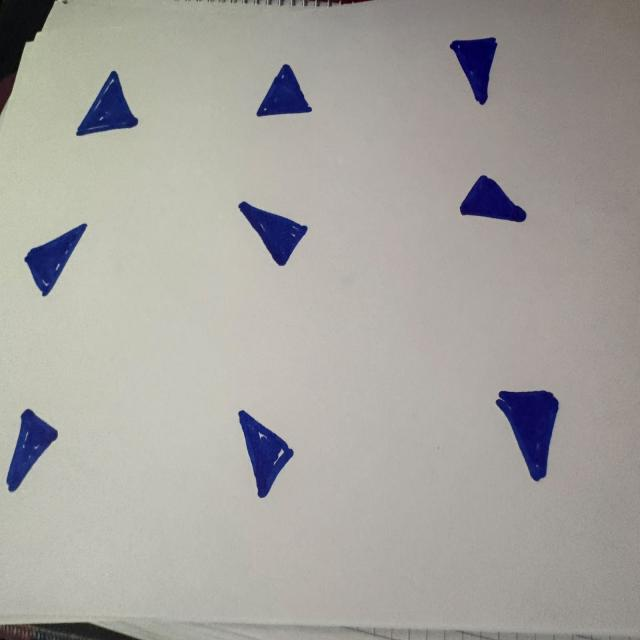Triangle: (496, 390, 558, 481), (239, 411, 293, 498), (25, 223, 87, 296), (238, 202, 307, 265), (7, 410, 57, 492), (76, 70, 138, 135), (450, 37, 497, 105), (460, 175, 526, 222), (256, 64, 312, 117)
